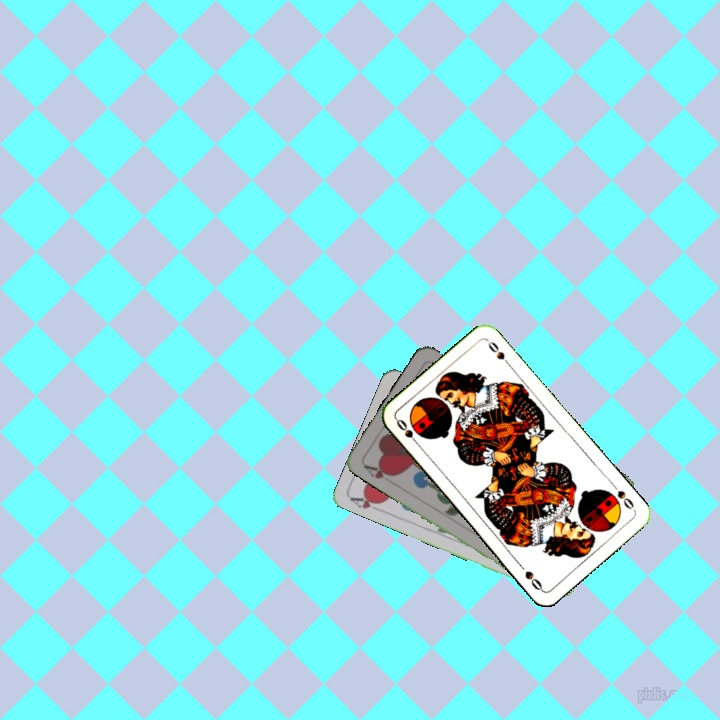HA: (346, 491, 386, 515), (360, 460, 397, 481)
SO: (392, 415, 423, 449), (607, 479, 637, 512)
